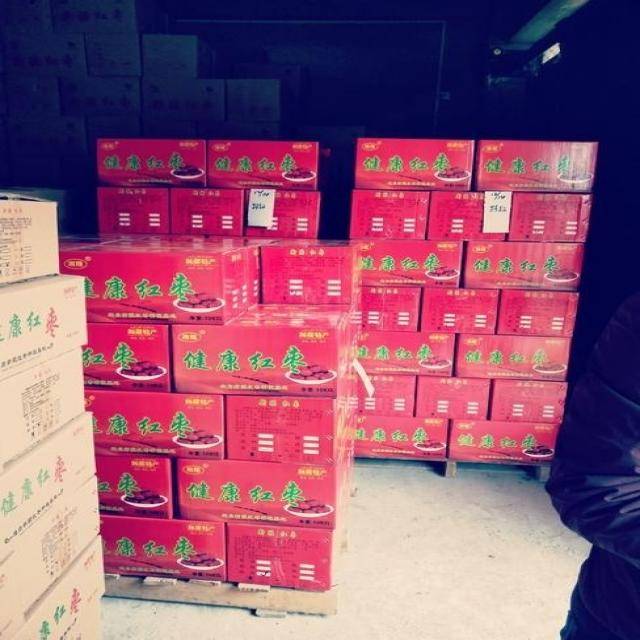box: (174, 415, 354, 529), (59, 236, 249, 326), (226, 461, 354, 590), (0, 411, 96, 581), (0, 481, 102, 638), (170, 310, 349, 398), (77, 235, 283, 305), (0, 531, 105, 640), (0, 346, 87, 471), (84, 390, 226, 461), (224, 391, 354, 466), (0, 271, 88, 381), (100, 515, 226, 582), (249, 303, 355, 376), (260, 239, 361, 306), (351, 138, 476, 192), (475, 140, 599, 194), (205, 140, 333, 192), (81, 324, 172, 394), (458, 240, 585, 290), (0, 190, 60, 288), (454, 334, 573, 382), (97, 138, 207, 189), (351, 239, 464, 288), (447, 419, 563, 466), (353, 328, 455, 377), (96, 457, 177, 518), (42, 0, 174, 36), (353, 416, 450, 460), (350, 189, 431, 240), (428, 191, 511, 240), (243, 189, 324, 239), (418, 288, 501, 336), (0, 32, 87, 77), (509, 194, 590, 242), (497, 290, 578, 338), (0, 117, 87, 160), (143, 78, 228, 120), (58, 78, 146, 118), (489, 380, 568, 424), (170, 188, 243, 235), (295, 126, 378, 167), (414, 376, 493, 419), (97, 186, 169, 233), (139, 35, 215, 79), (351, 286, 422, 332), (0, 179, 70, 225), (226, 78, 295, 123), (233, 63, 313, 100), (349, 374, 416, 417), (85, 34, 143, 78), (0, 77, 62, 118), (84, 118, 143, 161), (199, 119, 283, 142), (214, 48, 273, 79), (60, 600, 102, 640), (138, 118, 199, 142)
